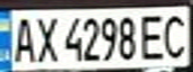2: (78, 12, 103, 63)
4: (60, 12, 84, 63)
8: (115, 12, 142, 62)
9: (100, 12, 121, 62)
A: (9, 12, 39, 64)
C: (157, 10, 193, 60)
E: (136, 11, 169, 61)
X: (33, 12, 60, 63)
